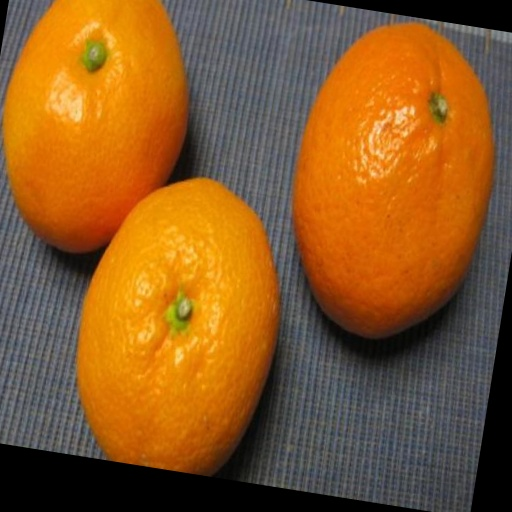fruit: (293, 24, 493, 337), (77, 179, 279, 475)
